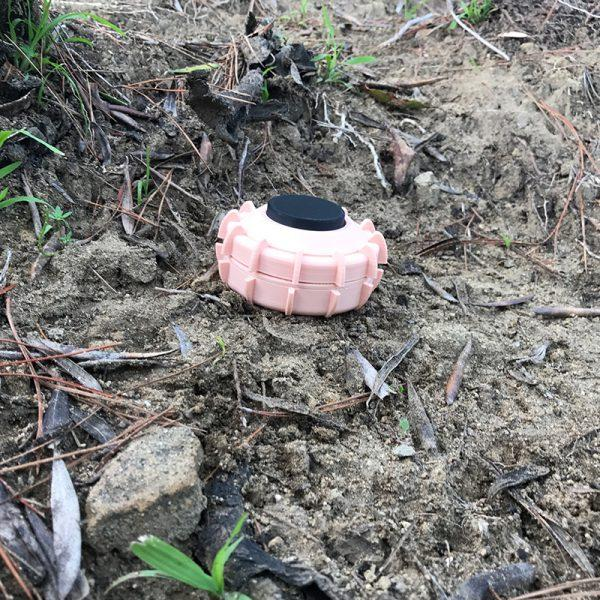pmn: (212, 192, 392, 320)
